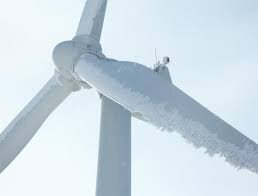faulty: (112, 53, 246, 165)
